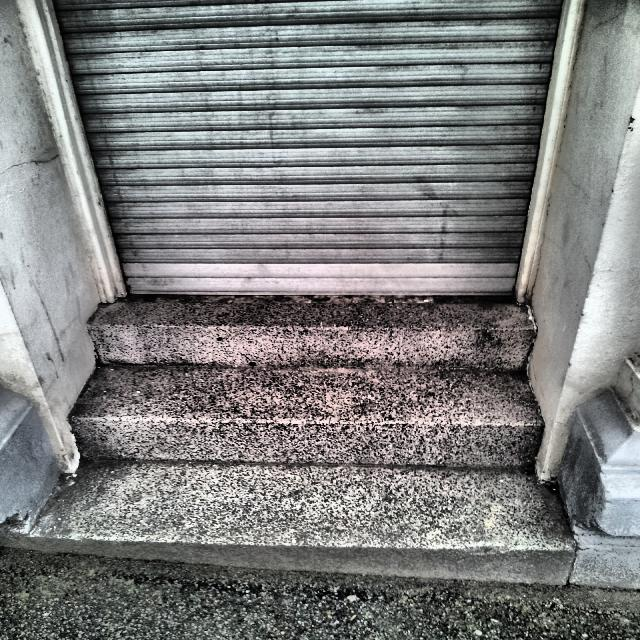escada: (2, 303, 584, 555)
